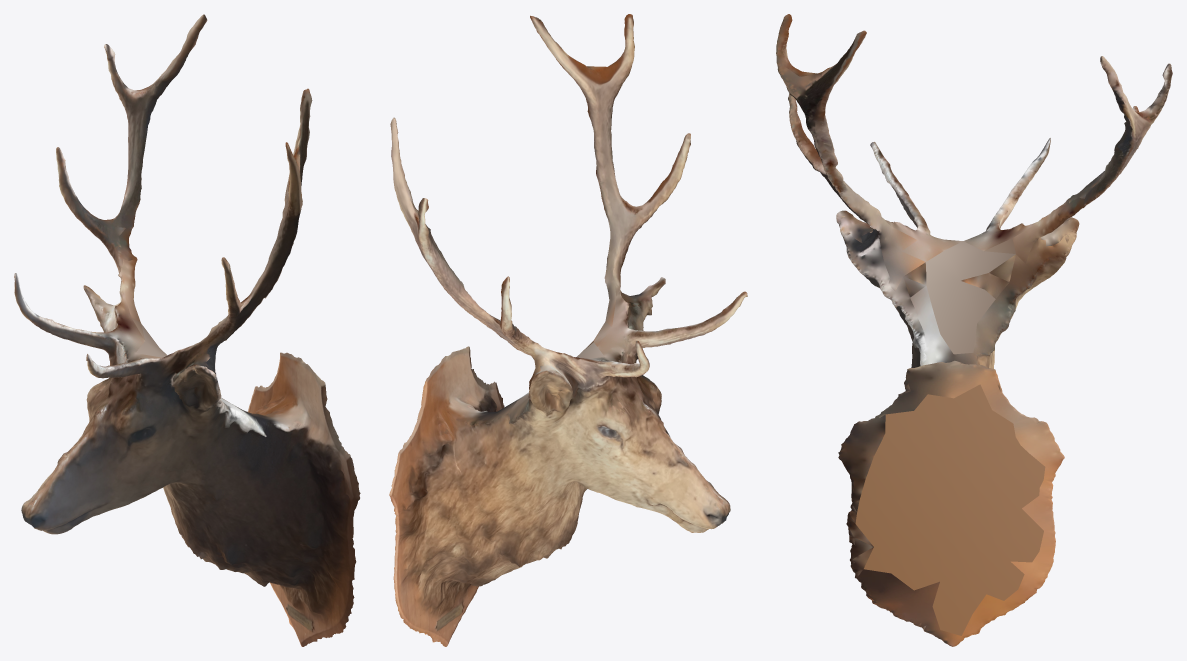
The model's file is deer.glb.
3 views of the same model, side by side, from view 1: azimuth 30°, elevation 25°; view 2: azimuth 150°, elevation 25°; view 3: azimuth 270°, elevation 25° (orthographic).
Parts seen in each view (by area): view 1: model; view 2: model; view 3: model.
Boxes of the visible parts, x1=… form: model: x1=14, y1=14, x2=360, y2=646; model: x1=389, y1=14, x2=747, y2=646; model: x1=776, y1=14, x2=1172, y2=646.
Size of the model in its own units: 0.5821 by 1.2 by 0.7255.
Materials: 1 (1 with a texture image).
